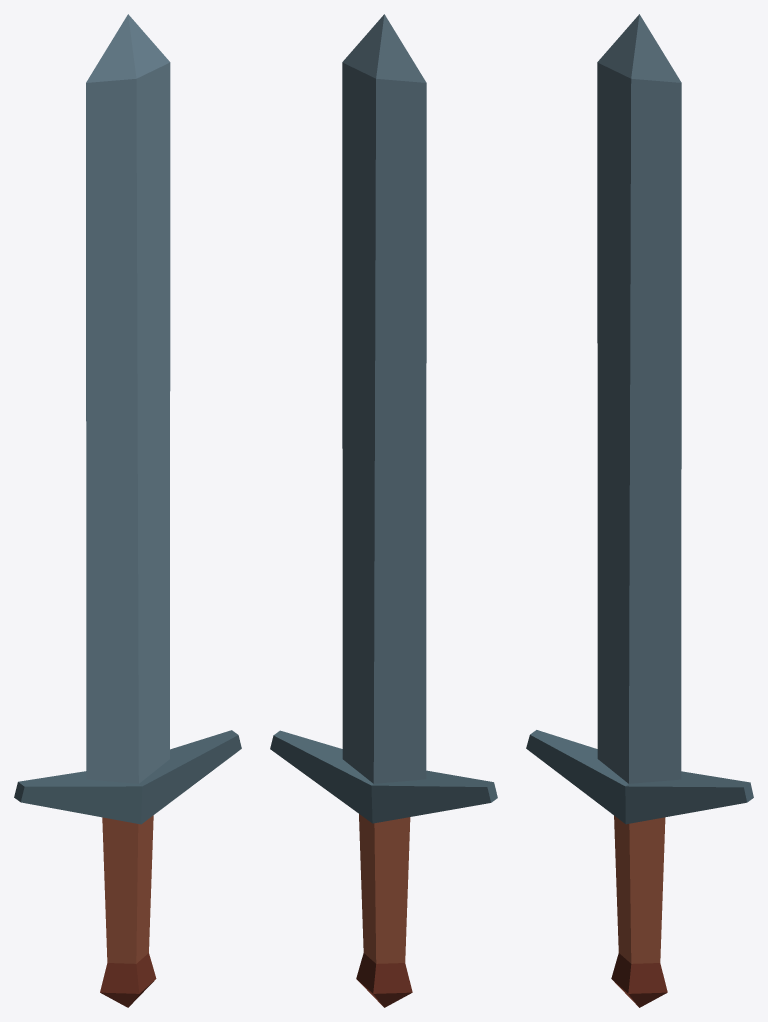
File: Sword.fbx
3 renders of one model, left to right at view 1: azimuth 30°, elevation 25°; view 2: azimuth 150°, elevation 25°; view 3: azimuth 330°, elevation 25°, orthographic.
Parts seen in each view (by area): view 1: Sword; view 2: Sword; view 3: Sword.
Boxes of the visible parts, <box> form: Sword: <box>14,14,241,1007</box>; Sword: <box>270,14,497,1007</box>; Sword: <box>526,14,753,1007</box>.
Bounding box in the file's own units: 0.2786 × 0.0591 × 1.2.
